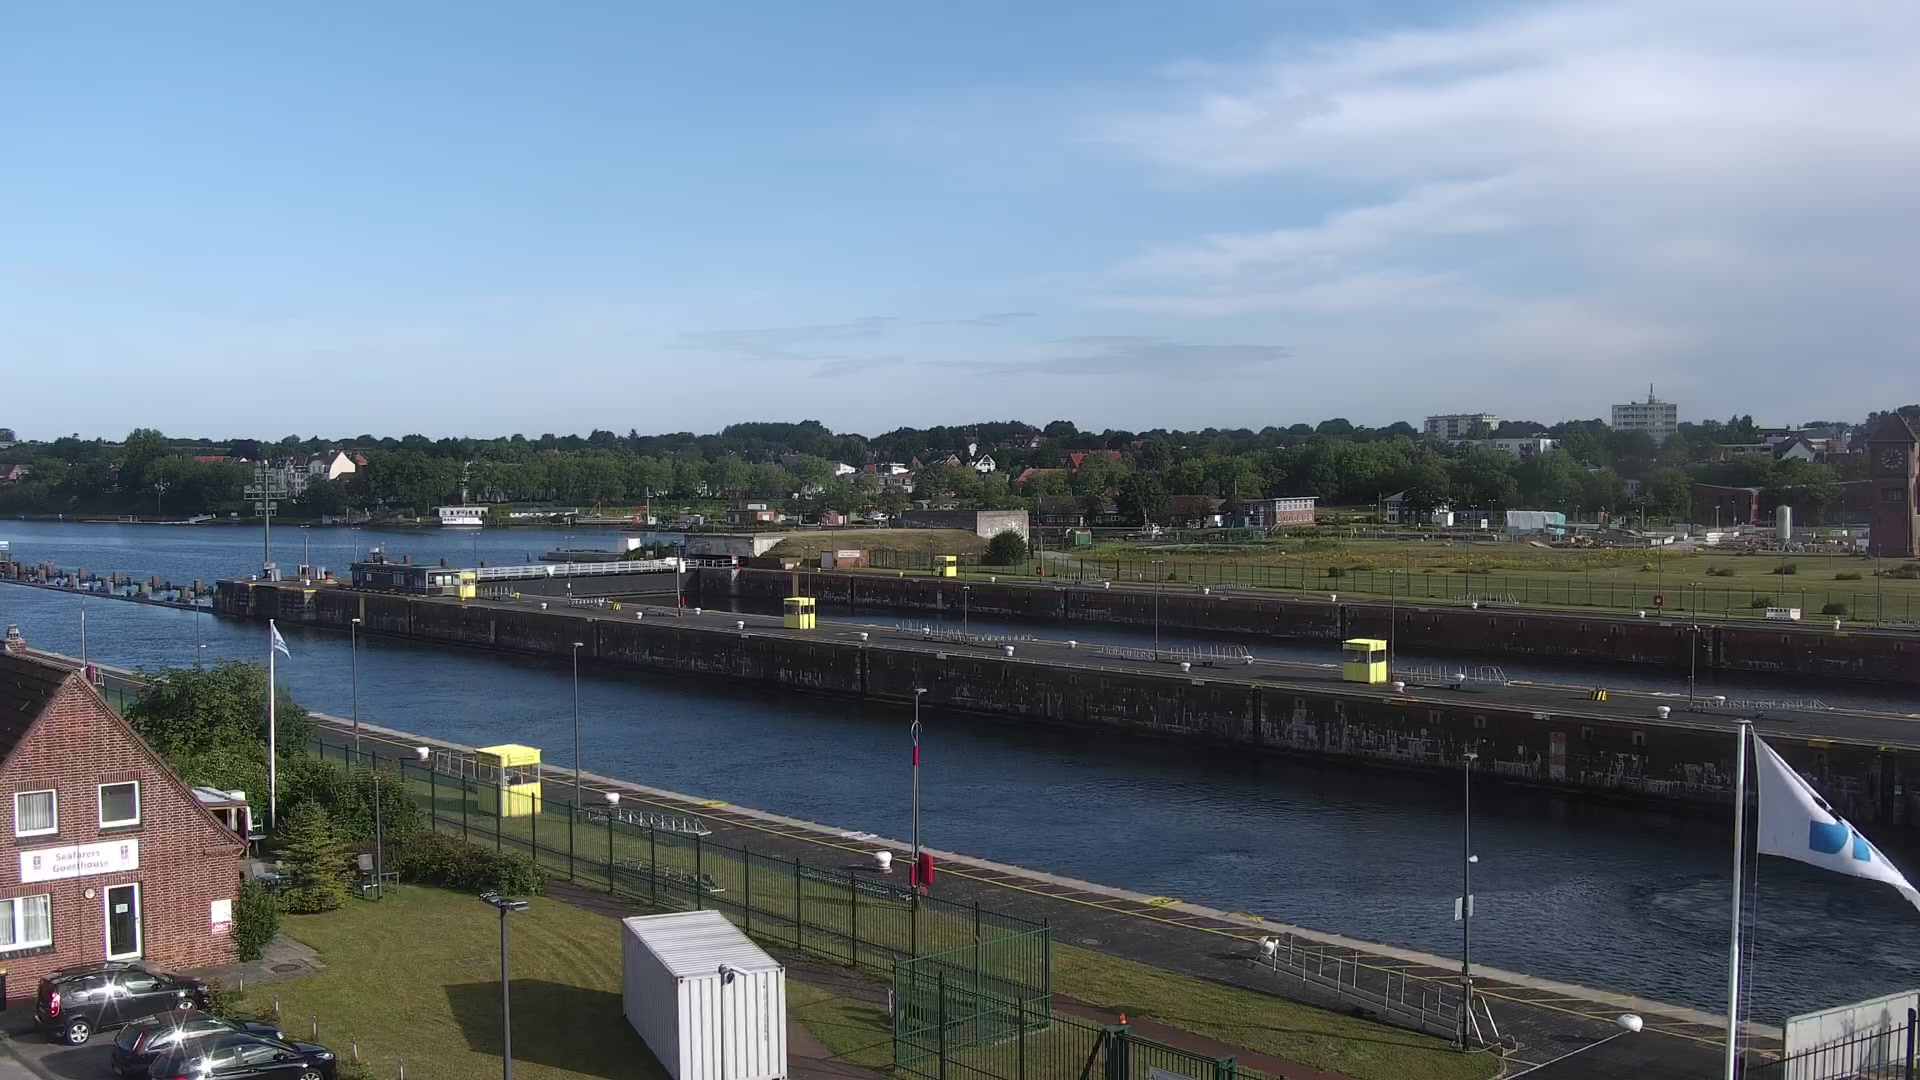land: (32, 964, 210, 1044), (111, 1006, 284, 1079), (144, 1029, 336, 1079)
sea: (574, 500, 640, 529)
